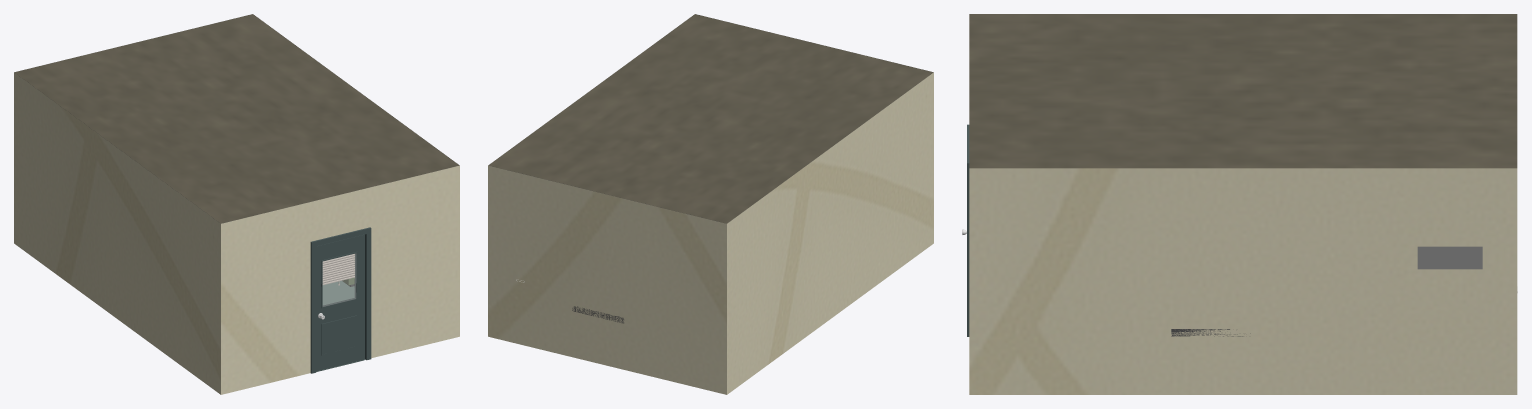
File: Medical Office.fbx
3 renders of one model, left to right at view 1: azimuth 30°, elevation 25°; view 2: azimuth 150°, elevation 25°; view 3: azimuth 270°, elevation 25°, orthographic. The views are drawn at different scales.
Visible parts, largest first — view 1: Medical Office, Medical Office Floor & Ceiling, Door, DoorFrane; view 2: Medical Office, Medical Office Floor & Ceiling; view 3: Medical Office, Medical Office Floor & Ceiling, Paper Towel, DoorFrane.
Boxes of the visible parts, x1=… form: Medical Office: x1=14, y1=72, x2=459, y2=394; Medical Office Floor & Ceiling: x1=15, y1=14, x2=459, y2=371; Door: x1=316, y1=234, x2=364, y2=371; DoorFrane: x1=310, y1=227, x2=371, y2=373; Medical Office: x1=488, y1=72, x2=933, y2=394; Medical Office Floor & Ceiling: x1=488, y1=14, x2=932, y2=223; Medical Office: x1=969, y1=168, x2=1517, y2=394; Medical Office Floor & Ceiling: x1=969, y1=14, x2=1517, y2=168; Paper Towel: x1=1417, y1=246, x2=1482, y2=269; DoorFrane: x1=967, y1=124, x2=969, y2=336.
Bounding box in the file's own units: 4 × 2.75 × 6.08.
